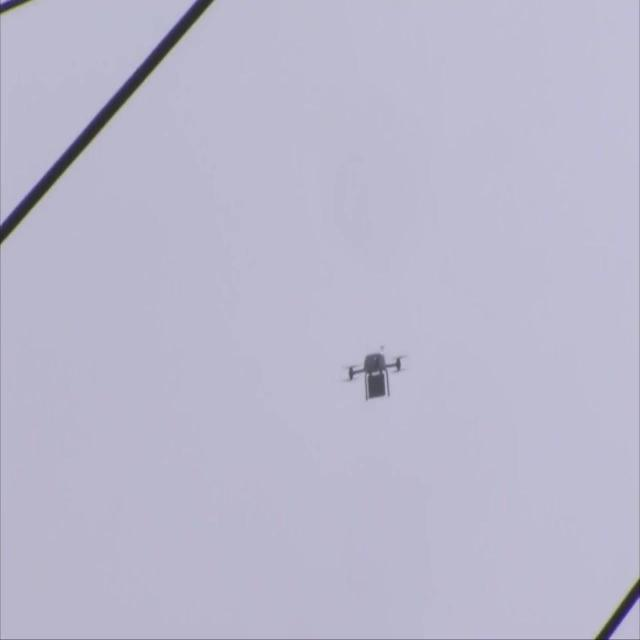UAV: (342, 345, 407, 402)
